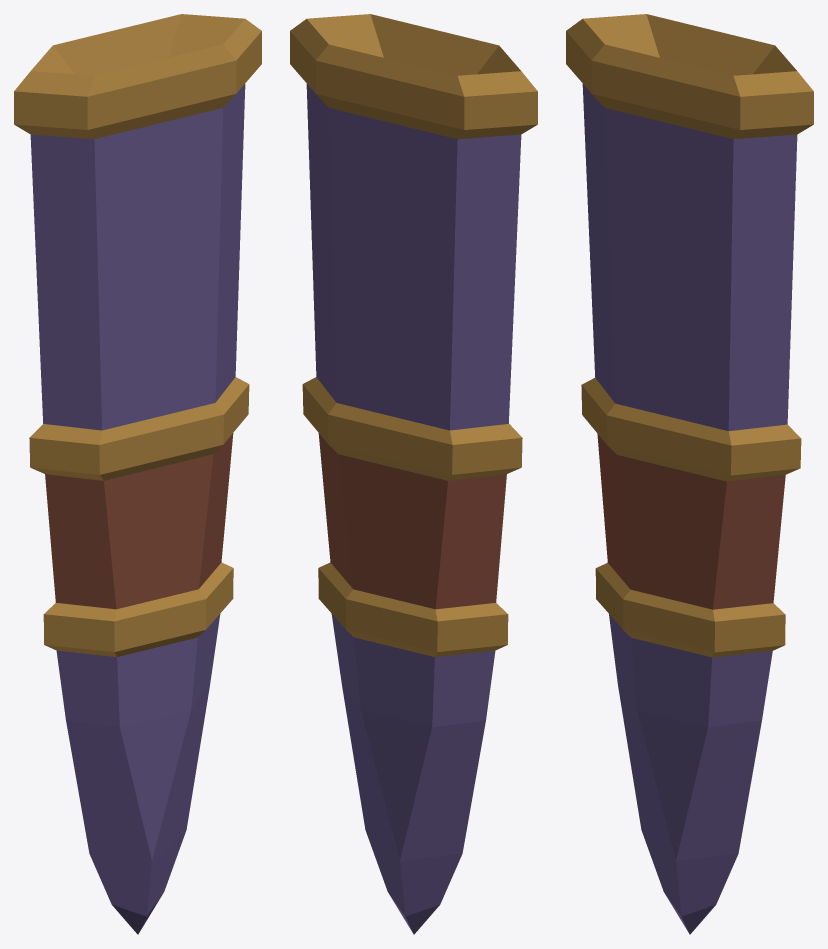
The model's file is SM_pwe_rome_dagger_scabbard_01.fbx.
The picture shows the model from 3 angles, left to right: view 1: azimuth 30°, elevation 25°; view 2: azimuth 150°, elevation 25°; view 3: azimuth 330°, elevation 25°; orthographic projection.
Visible parts, largest first — view 1: SM_pwe_rome_dagger_scabbard_01; view 2: SM_pwe_rome_dagger_scabbard_01; view 3: SM_pwe_rome_dagger_scabbard_01.
Boxes of the visible parts, left/top/right/bottom form: SM_pwe_rome_dagger_scabbard_01: left=14, top=14, right=261, bottom=934; SM_pwe_rome_dagger_scabbard_01: left=290, top=14, right=537, bottom=934; SM_pwe_rome_dagger_scabbard_01: left=566, top=14, right=813, bottom=934.
Bounding box in the file's own units: 7.68 × 26.36 × 2.58.
